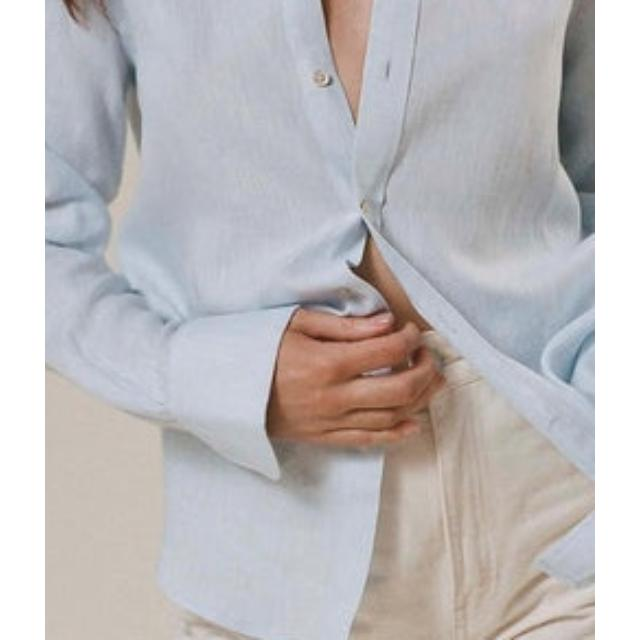linen: (45, 0, 595, 252)
